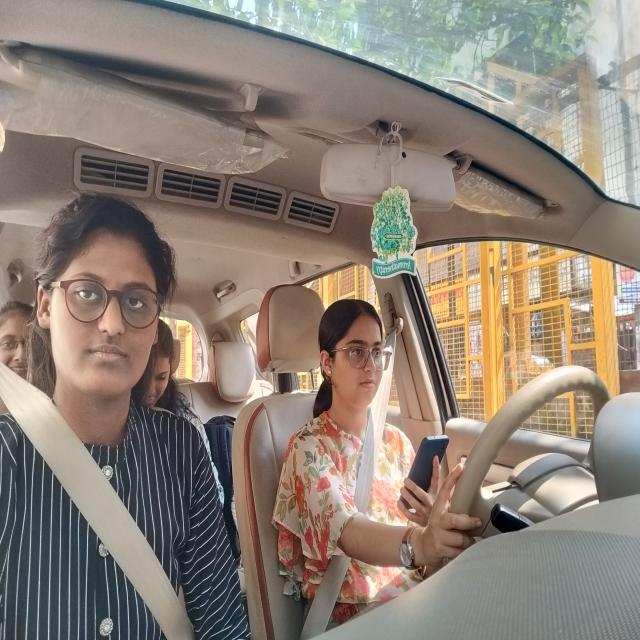mobile: (400, 433, 452, 513)
person: (38, 198, 170, 416), (316, 298, 390, 411), (3, 294, 34, 399), (151, 319, 180, 412)
